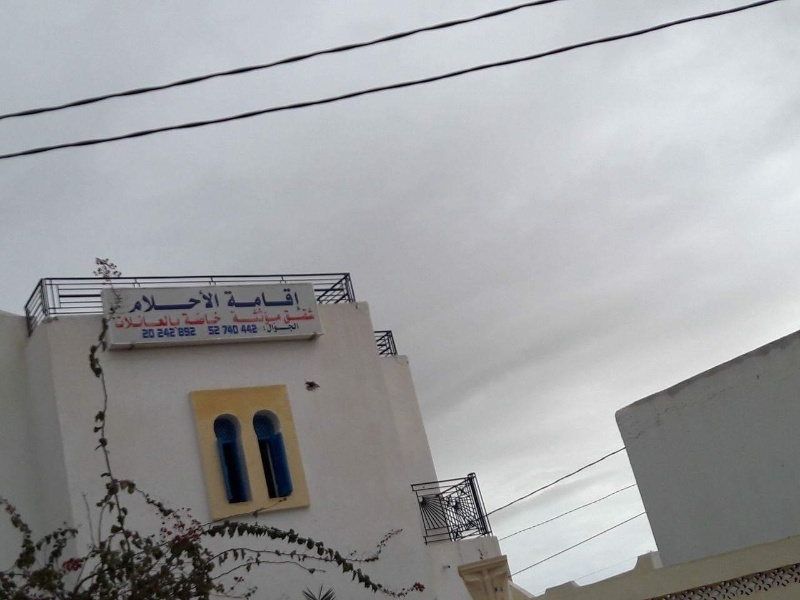text: (129, 289, 144, 316), (145, 289, 160, 316), (161, 289, 176, 316), (177, 289, 192, 316), (193, 289, 208, 316), (225, 287, 240, 312), (241, 287, 256, 312), (257, 287, 272, 312), (273, 287, 288, 312), (289, 287, 304, 312), (209, 289, 222, 316), (241, 307, 256, 328), (257, 307, 272, 328), (113, 312, 128, 331), (129, 312, 144, 331), (145, 312, 160, 331), (161, 312, 176, 331), (289, 306, 304, 325), (193, 311, 208, 327), (209, 311, 224, 327), (229, 307, 240, 328), (305, 306, 317, 325), (273, 307, 283, 328), (273, 321, 288, 334), (161, 327, 177, 339), (241, 324, 256, 336), (225, 324, 240, 336), (177, 326, 192, 337), (182, 311, 192, 327), (289, 321, 301, 334), (209, 325, 222, 336), (262, 321, 272, 334), (145, 329, 156, 340), (177, 312, 183, 331), (284, 306, 288, 325), (222, 287, 224, 312), (193, 326, 197, 337), (157, 327, 160, 339), (141, 329, 144, 340), (257, 324, 259, 336), (222, 324, 224, 336)
